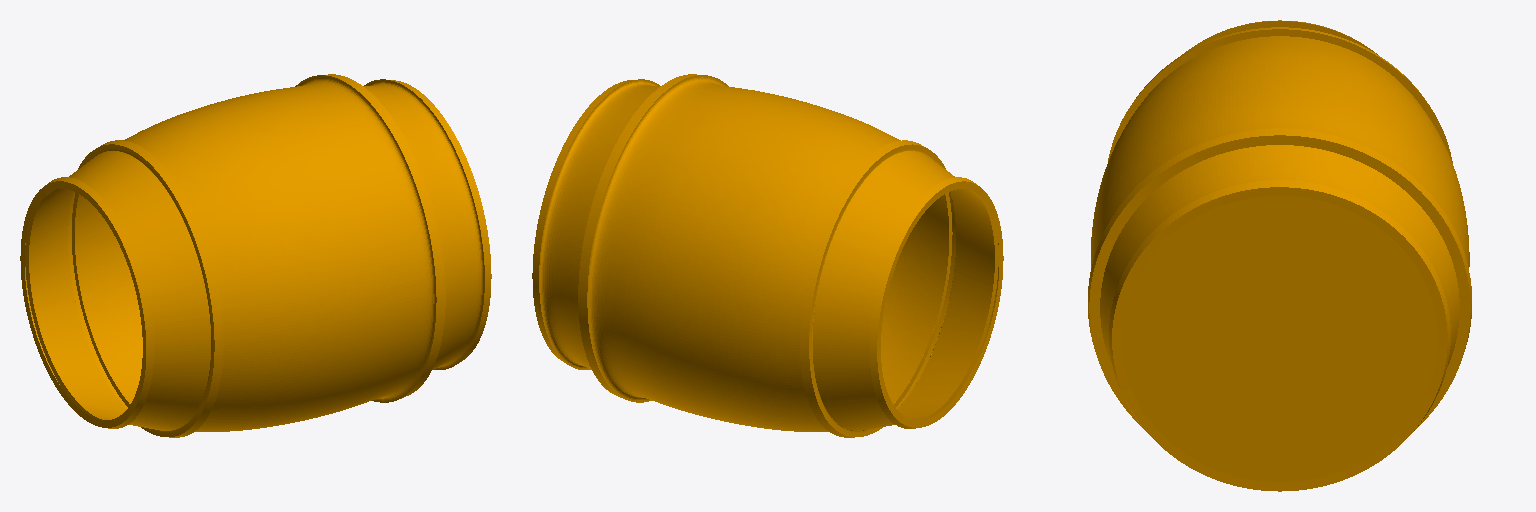
URDF robot description (none):
<robot name="none">
       <link name="none">
           <visual>
               <origin rpy="0 0 1.57 " xyz="0 0 0"/>
               <geometry>
                   <mesh filename="Barril.obj" scale="0.3 0.3 0.3"/>
               </geometry>
           </visual>
          <collision>
<origin rpy="1.57 0 0" xyz="0 0 0.5" />
              <geometry>
                  <box size="0.808703 1.000000 0.808704" />
              </geometry>
          </collision>

          <inertial>
            <mass value="0.0" />
            <inertia ixx="0.01" ixy="0.0" ixz="0.0" iyy="0.01" iyz="0.0" izz="0.01"/>
          </inertial>
      </link>
  </robot>

--- Facts derived from the render (not from the file) ---
Views: 3 orthographic renders of the robot side by side, from view 1: azimuth 30°, elevation 25°; view 2: azimuth 150°, elevation 25°; view 3: azimuth 270°, elevation 25°.
Robot: none — 1 links, 0 joints (none); root link none; default pose: all joints at 0.
Visible links, largest first — view 1: none; view 2: none; view 3: none.
Boxes of the visible links, x1,y1,x2,y2 form: none: (20, 74, 491, 437); none: (532, 74, 1003, 437); none: (1088, 20, 1471, 491).
Bounding box of the posed robot: 0.9316 × 0.807 × 0.807 m (x, y, z).
Meshes: 1 distinct files referenced, 1 mesh visuals loaded (1 OBJ).